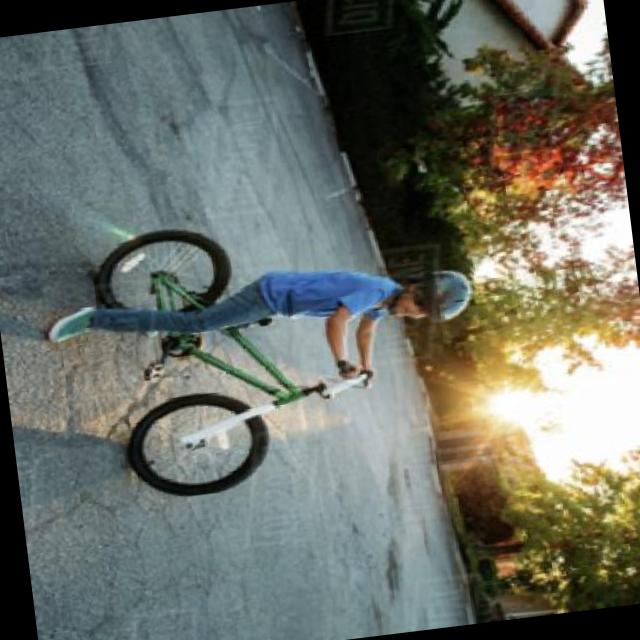With Helmet: (382, 262, 476, 333)
